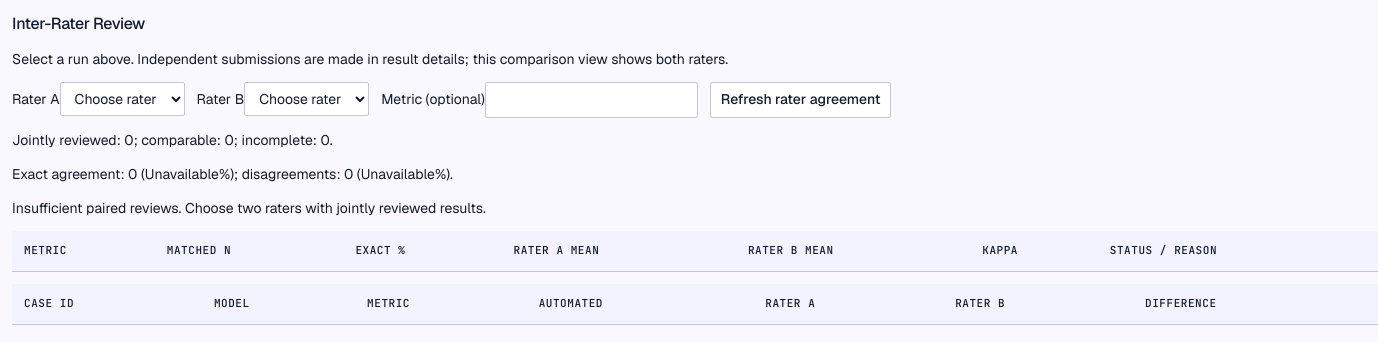
Test: insufficient pairs and request errors remain readable
Expected: the text "Insufficient paired reviews" is shown, [12,198,486,216]
Click the button "Refresh rater agreement" at (801, 100), box [710,82,891,118]
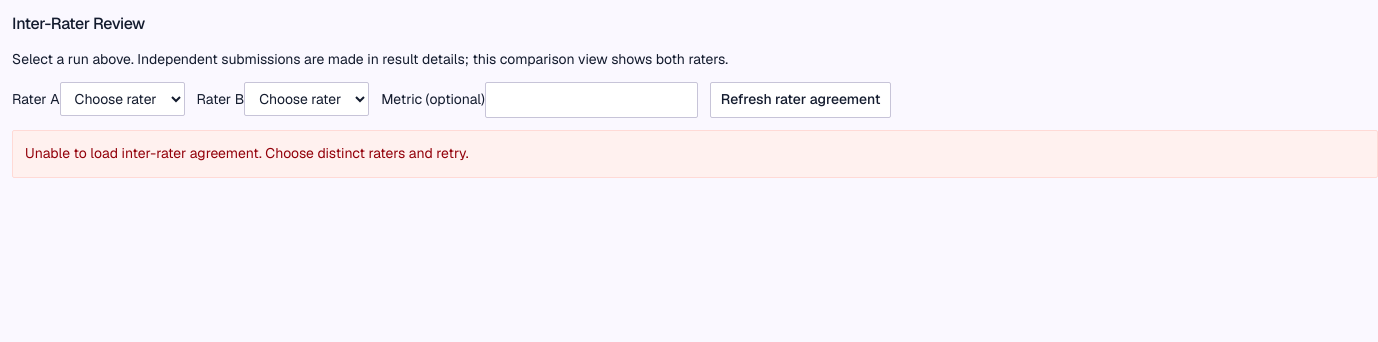
Result: the message "Unable to load inter-rater agreement. Choose distinct raters and retry." is shown at [12,130,1377,178]
